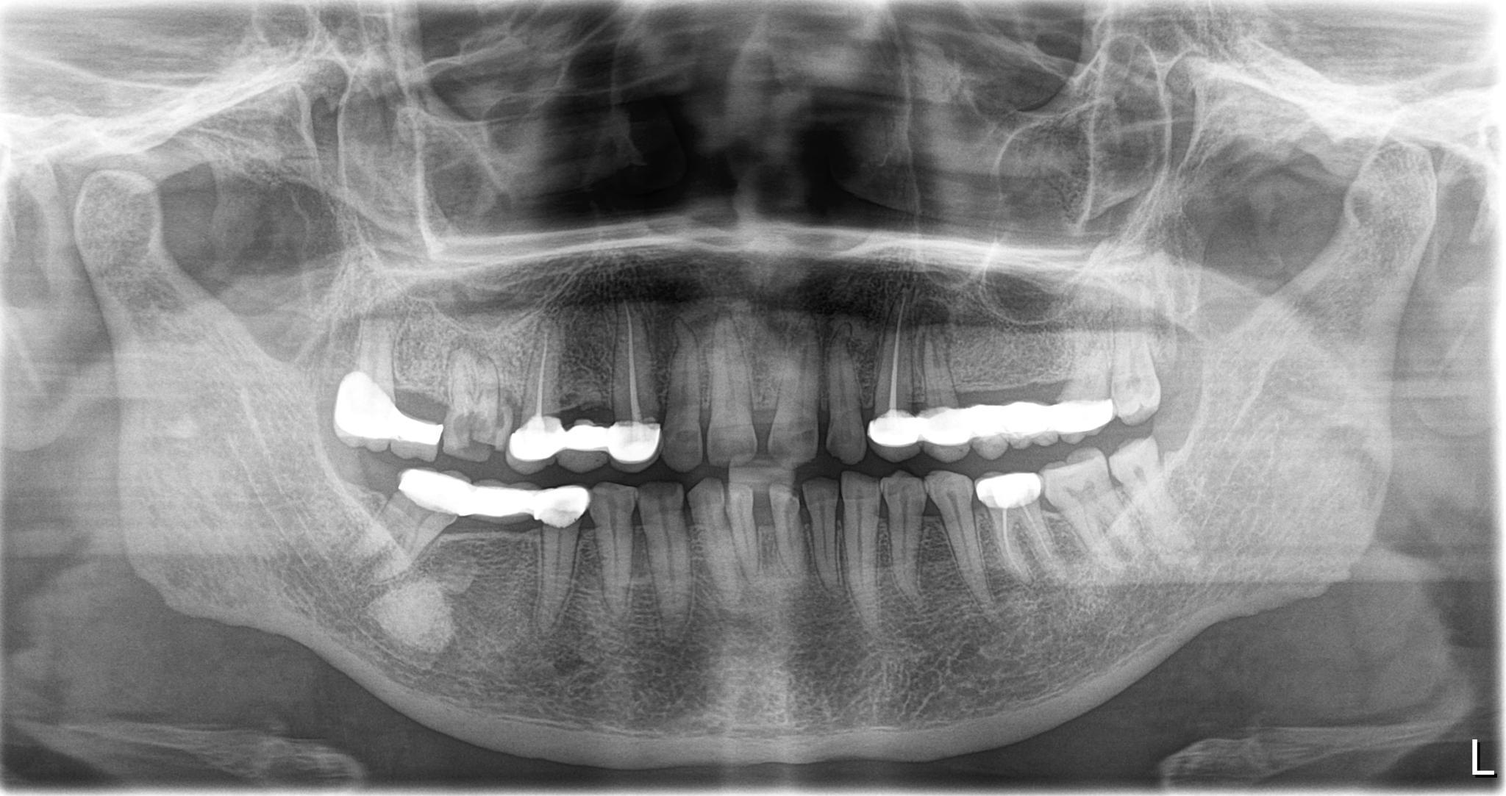Dental Caries: (447, 360, 501, 457)
Endodontically Treated Tooth: (974, 478, 1046, 594), (517, 345, 567, 466), (612, 349, 664, 464), (871, 336, 917, 457), (919, 338, 967, 448), (1022, 342, 1073, 444), (574, 345, 613, 473), (982, 344, 1020, 447), (1077, 340, 1111, 436)
Impacted Third Molar: (364, 491, 443, 561)
